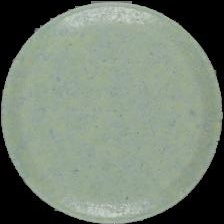0591-0424: (0, 0, 224, 224)
